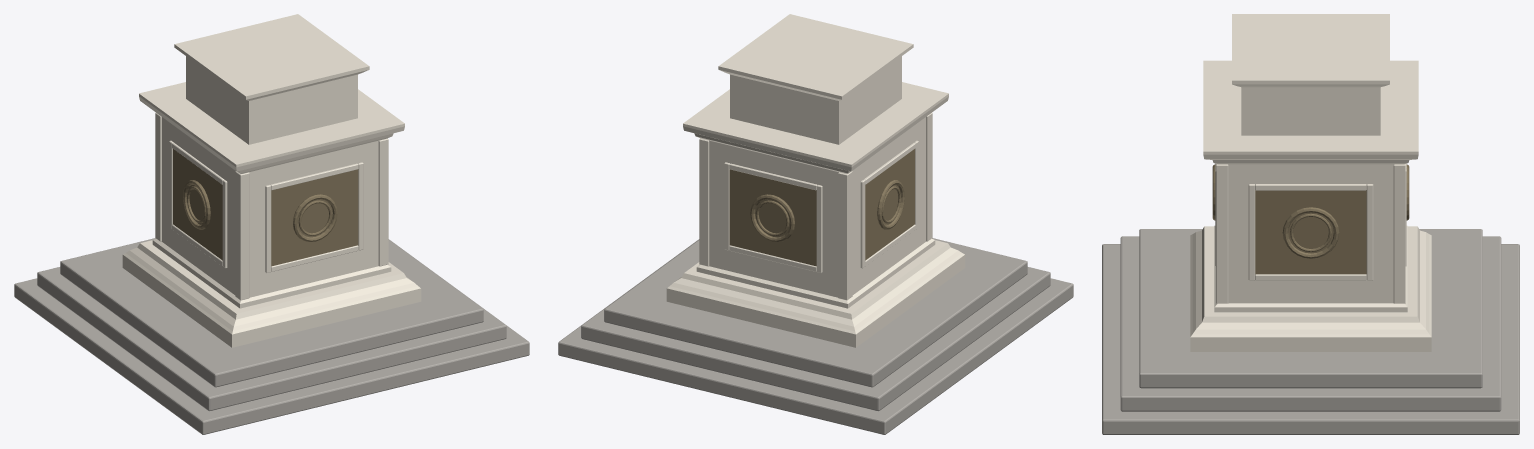
Rendered from monument-haute.glb.
The picture shows the model from 3 angles, left to right: view 1: azimuth 30°, elevation 25°; view 2: azimuth 150°, elevation 25°; view 3: azimuth 270°, elevation 25°; orthographic projection. The views are drawn at different scales.
Parts seen in each view (by area): view 1: monument; view 2: monument; view 3: monument.
Part boxes in pixels (x1=…): monument: x1=14, y1=14, x2=529, y2=434; monument: x1=558, y1=14, x2=1073, y2=434; monument: x1=1102, y1=14, x2=1519, y2=434.
Size of the model in its own units: 9 by 7.13 by 9.
